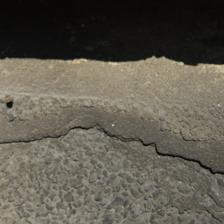Crack: (66, 10, 155, 86), (93, 77, 150, 107)
